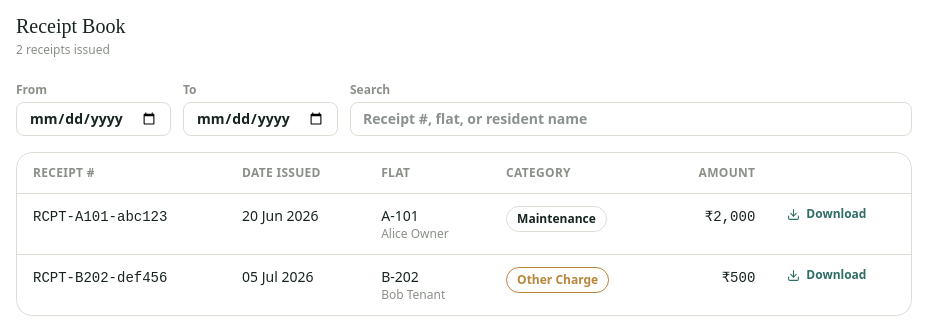
Scenario: ReceiptBookPage › searches by resident name
Expected: the text "RCPT-A101-abc123" is shown, [33,209,167,225]
Type "Bob" into the field labelled "Search". click: point(631, 119)
box: [350,102,912,136]
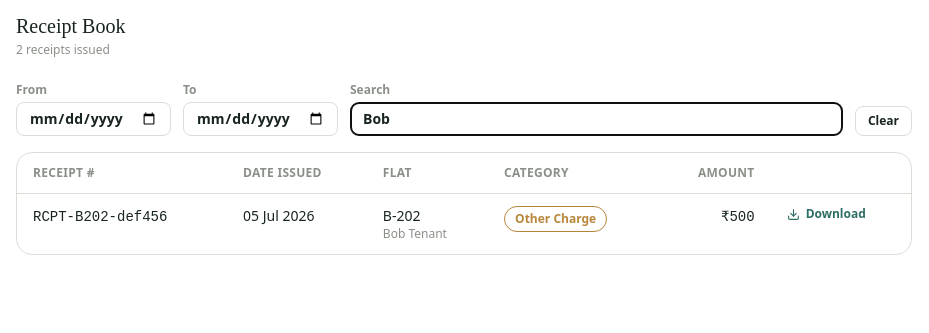
Expected: the text "RCPT-B202-def456" is shown, [33,209,167,225]
Expected: the text "RCPT-A101-abc123" is gone
